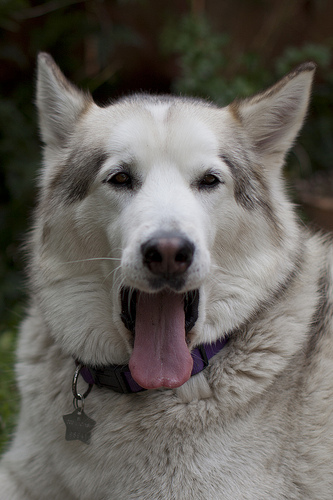dog: (0, 53, 329, 497)
